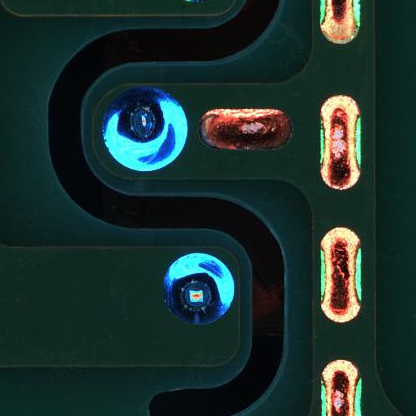spot: (88, 78, 190, 182), (152, 247, 246, 330)
